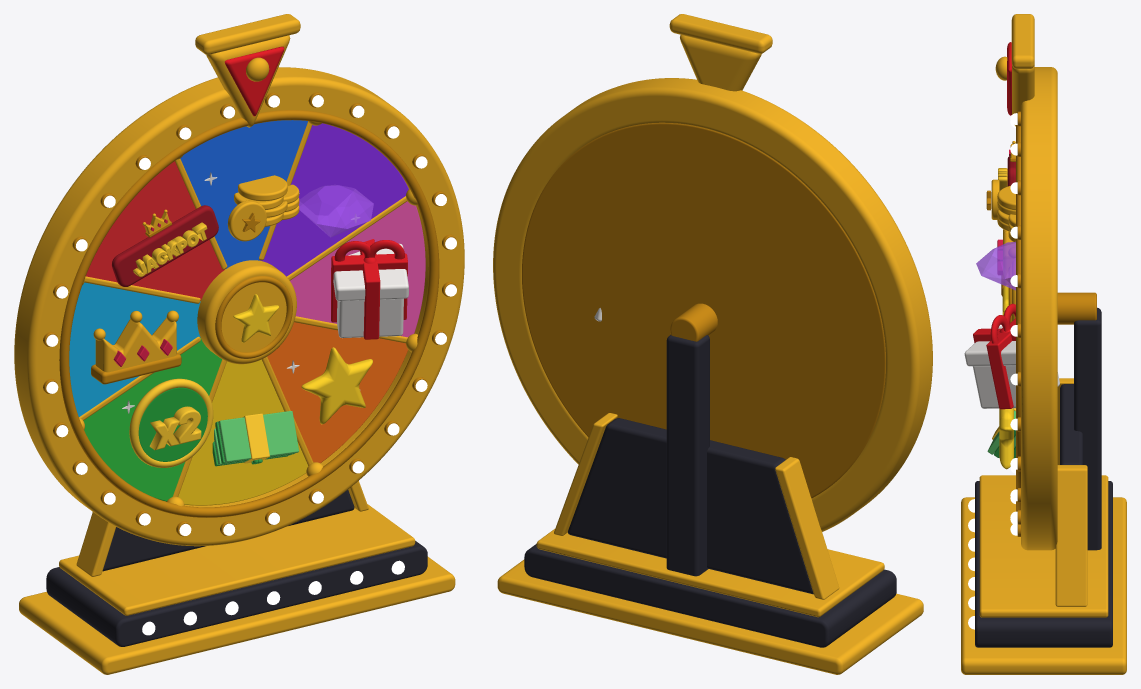
Rendered from wheel_of_fortune.glb.
3 renders of one model, left to right at view 1: azimuth 30°, elevation 25°; view 2: azimuth 150°, elevation 25°; view 3: azimuth 270°, elevation 25°, orthographic. The views are drawn at different scales.
Parts seen in each view (by area): view 1: Rim, Stand_top, Rim_lip, Stand_base, Segment_1_Diamond, Stand_band, Segment_3_Star, Segment_0_Coins, Segment_4_Cash, Segment_6_Crown, Segment_7_Jackpot, Segment_5_X2 (+29 smaller); view 2: Wheel_backplate, Rim, Stand_back, Stand_band, Stand_base, Stand_post, Stand_top, Stand_trim_-1, Pointer_frame, Pointer_cap, Stand, Axle; view 3: Rim, Stand_top, Stand_base, Stand_band, Stand_post, Stand, Stand_back, Rim_lip, Pointer_cap, Diamond, Axle, Gift_ribbon_h (+11 smaller).
Part boxes in pixels (x1=…): Rim: x1=14, y1=67, x2=464, y2=546; Stand_top: x1=59, y1=504, x2=415, y2=615; Rim_lip: x1=59, y1=110, x2=439, y2=517; Stand_base: x1=19, y1=556, x2=455, y2=674; Segment_1_Diamond: x1=260, y1=123, x2=408, y2=276; Stand_band: x1=46, y1=541, x2=427, y2=646; Segment_3_Star: x1=267, y1=322, x2=408, y2=463; Segment_0_Coins: x1=180, y1=120, x2=307, y2=268; Segment_4_Cash: x1=178, y1=359, x2=308, y2=505; Segment_6_Crown: x1=69, y1=282, x2=200, y2=416; Segment_7_Jackpot: x1=86, y1=161, x2=224, y2=300; Segment_5_X2: x1=83, y1=338, x2=222, y2=501; Wheel_backplate: x1=522, y1=122, x2=885, y2=498; Rim: x1=493, y1=78, x2=932, y2=531; Stand_back: x1=568, y1=418, x2=813, y2=594; Stand_band: x1=524, y1=544, x2=896, y2=647; Stand_base: x1=497, y1=559, x2=923, y2=674; Stand_post: x1=666, y1=335, x2=709, y2=576; Stand_top: x1=536, y1=529, x2=884, y2=617; Stand_trim_-1: x1=775, y1=457, x2=839, y2=599; Pointer_frame: x1=680, y1=35, x2=761, y2=91; Pointer_cap: x1=669, y1=14, x2=772, y2=53; Stand: x1=554, y1=413, x2=617, y2=535; Axle: x1=670, y1=303, x2=717, y2=341; Rim: x1=1021, y1=67, x2=1057, y2=550; Stand_top: x1=979, y1=475, x2=1108, y2=617; Stand_base: x1=961, y1=497, x2=1126, y2=674; Stand_band: x1=975, y1=481, x2=1112, y2=647; Stand_post: x1=1074, y1=307, x2=1101, y2=550; Stand: x1=1055, y1=465, x2=1087, y2=606; Stand_back: x1=1060, y1=384, x2=1082, y2=464; Rim_lip: x1=1016, y1=125, x2=1020, y2=511; Pointer_cap: x1=1011, y1=14, x2=1034, y2=68; Diamond: x1=976, y1=241, x2=1015, y2=290; Axle: x1=1057, y1=292, x2=1096, y2=324; Gift_ribbon_h: x1=986, y1=318, x2=1015, y2=409.
Bounding box in the file's own units: 2.1 × 2.68 × 0.72.
